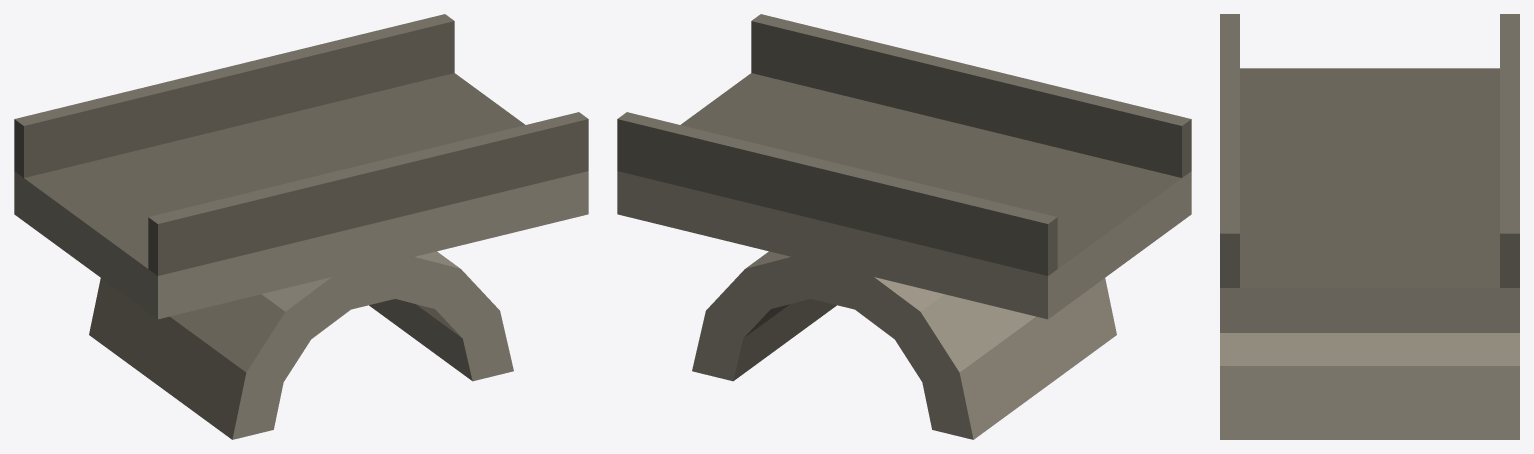
The model's file is bld_bridge.glb.
3 views of the same model, side by side, from view 1: azimuth 30°, elevation 25°; view 2: azimuth 150°, elevation 25°; view 3: azimuth 270°, elevation 25° (orthographic). The views are drawn at different scales.
Visible parts, largest first — view 1: bld_bridge; view 2: bld_bridge; view 3: bld_bridge.
Boxes of the visible parts, x1=… form: bld_bridge: x1=14, y1=14, x2=588, y2=439; bld_bridge: x1=617, y1=14, x2=1191, y2=439; bld_bridge: x1=1220, y1=14, x2=1519, y2=439.
Size of the model in its own units: 1.04 by 0.54 by 0.6.
Materials: 1 (1 with a texture image).
